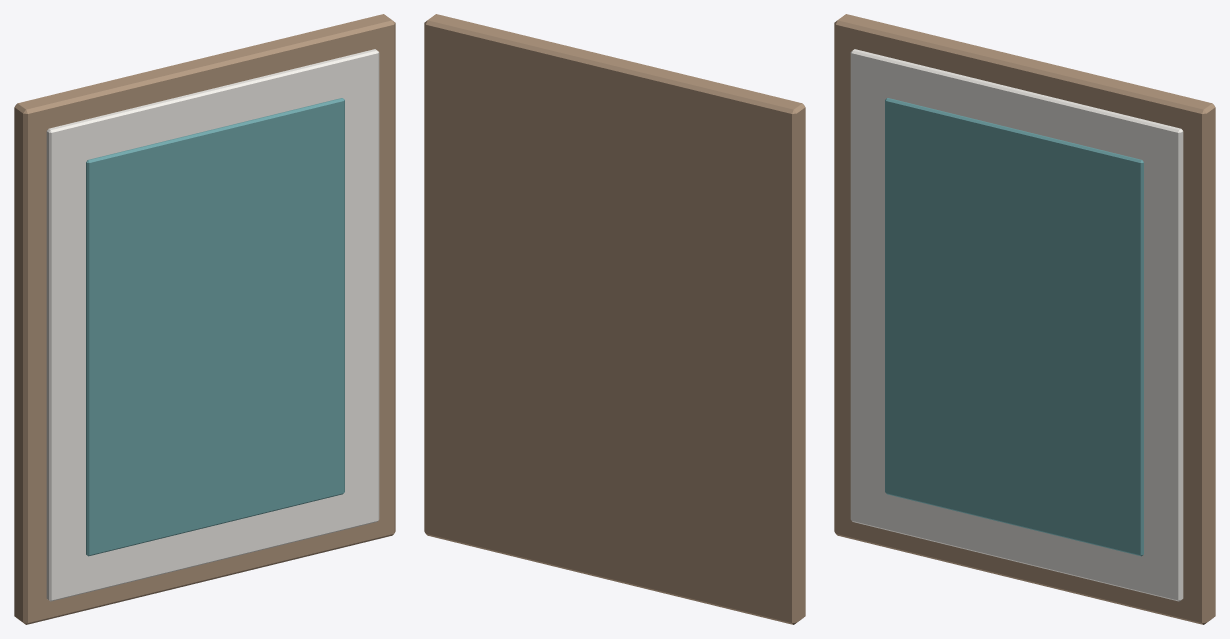
Rendered from hotel-and-resort-operations-corridor-artwork-panel-ab7b6b4e__25839.glb.
The picture shows the model from 3 angles, left to right: view 1: azimuth 30°, elevation 25°; view 2: azimuth 150°, elevation 25°; view 3: azimuth 330°, elevation 25°; orthographic projection.
Visible parts, largest first — view 1: corridor-artwork-panel; view 2: corridor-artwork-panel; view 3: corridor-artwork-panel.
Part boxes in pixels (x1,y1,x2,y2): corridor-artwork-panel: (14, 14, 395, 624); corridor-artwork-panel: (424, 14, 805, 624); corridor-artwork-panel: (834, 14, 1215, 624).
Size of the model in its own units: 0.62 by 0.82 by 0.0515.
